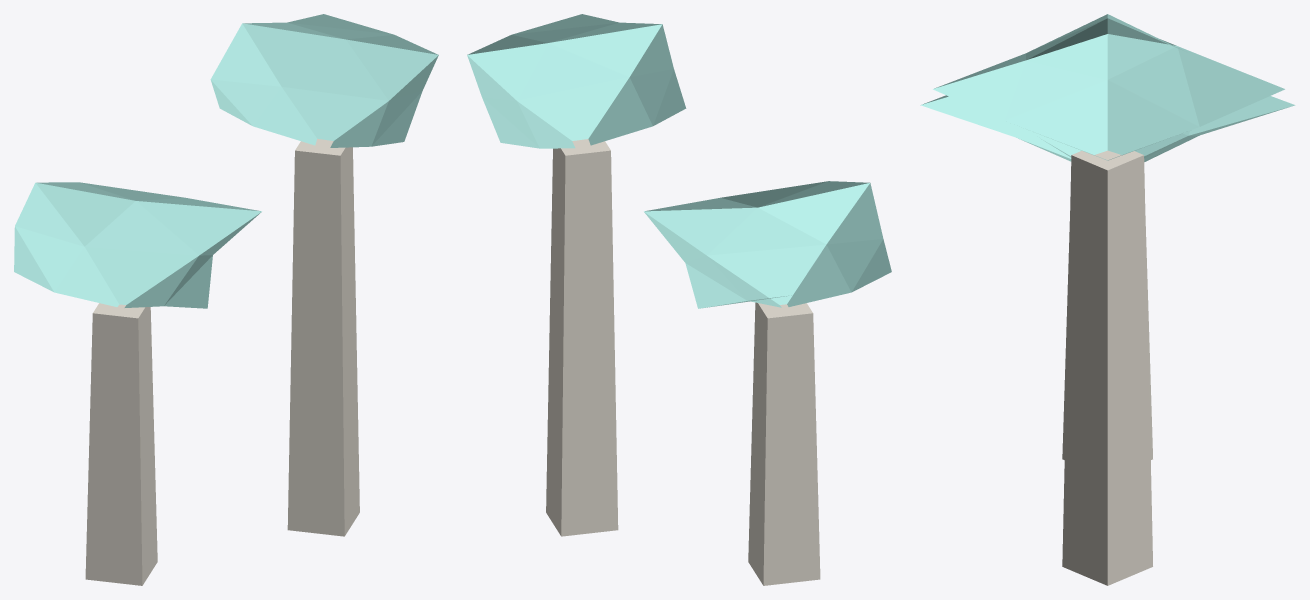
File: glowcap_v09.glb
3 renders of one model, left to right at view 1: azimuth 30°, elevation 25°; view 2: azimuth 150°, elevation 25°; view 3: azimuth 270°, elevation 25°, orthographic. The views are drawn at different scales.
Parts seen in each view (by area): view 1: lod0; view 2: lod0; view 3: lod0.
Part boxes in pixels (x1,y1,x2,y2): lod0: (14, 14, 438, 585); lod0: (467, 14, 891, 585); lod0: (920, 14, 1295, 585).
Size of what is drawn, in the model's own units: 0.2942 by 0.3357 by 0.2067.
